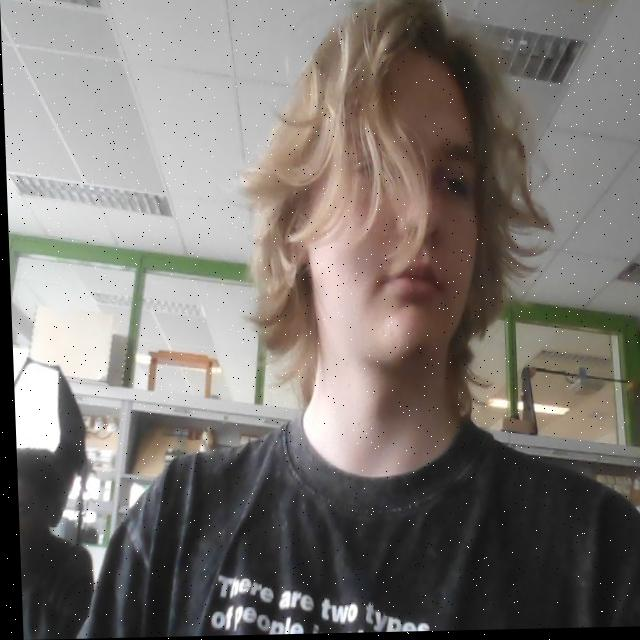opened_eye: (428, 157, 476, 208)
